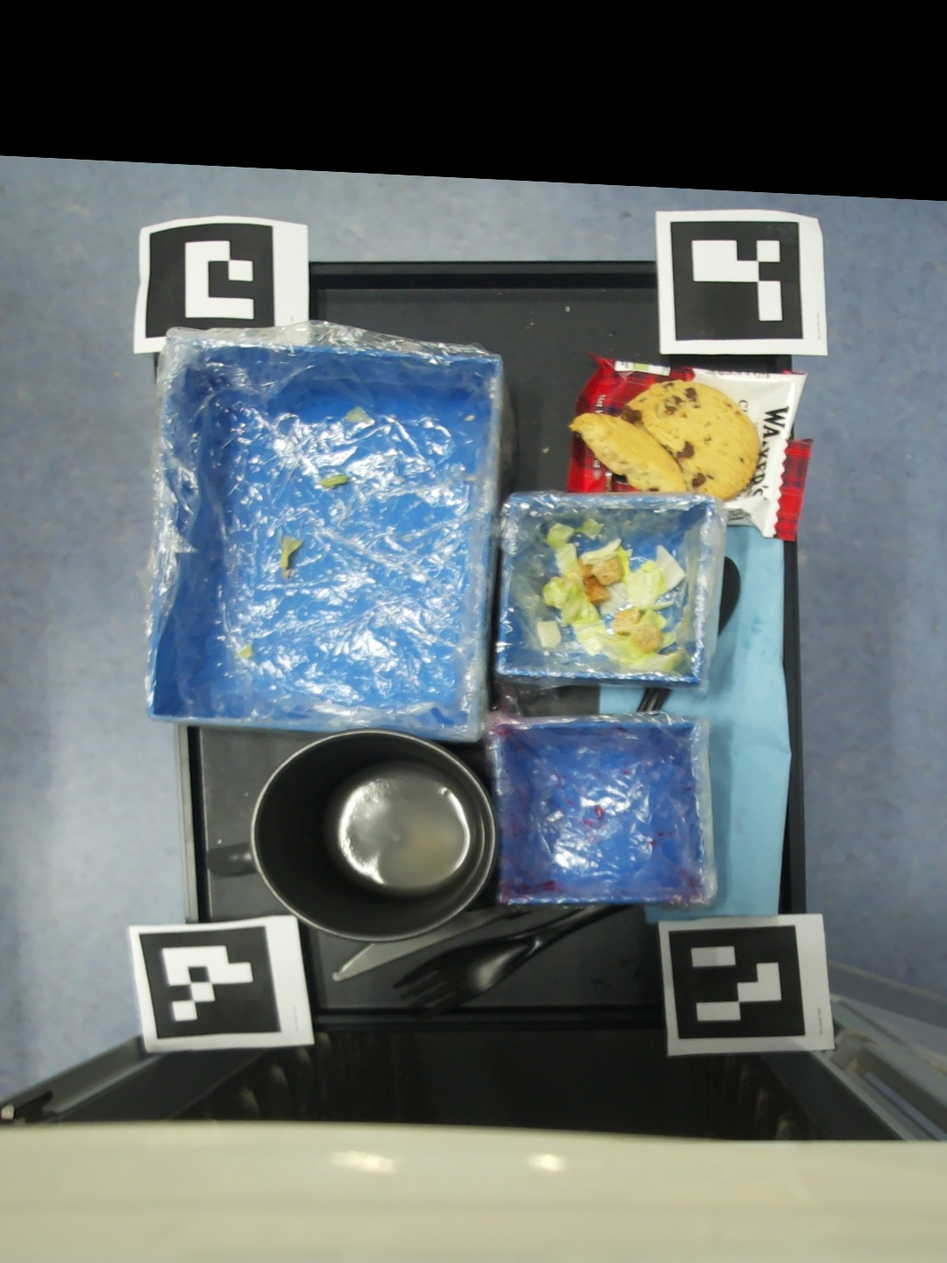coffee_cup: (205, 729, 498, 942)
cookie: (565, 351, 813, 541)
side_salad: (541, 519, 686, 672), (537, 620, 561, 648)
wrap_half_1: (281, 535, 304, 578), (347, 407, 372, 424), (321, 475, 348, 488), (237, 644, 251, 660)
